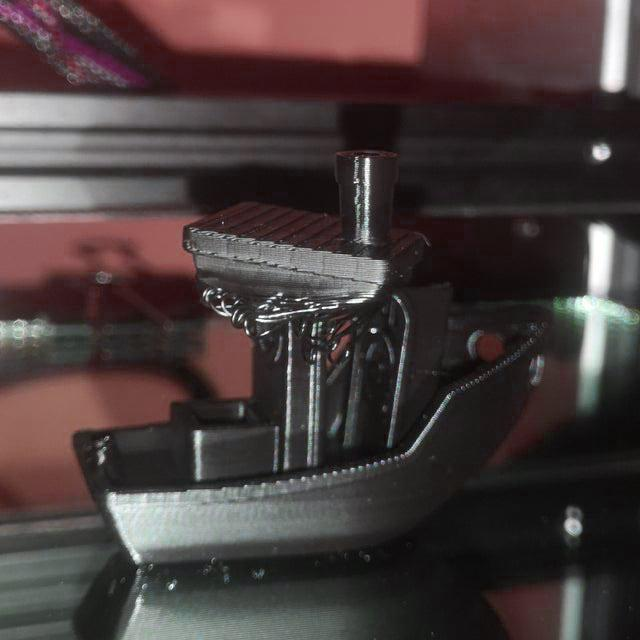Spaghetti: (198, 285, 382, 368)
